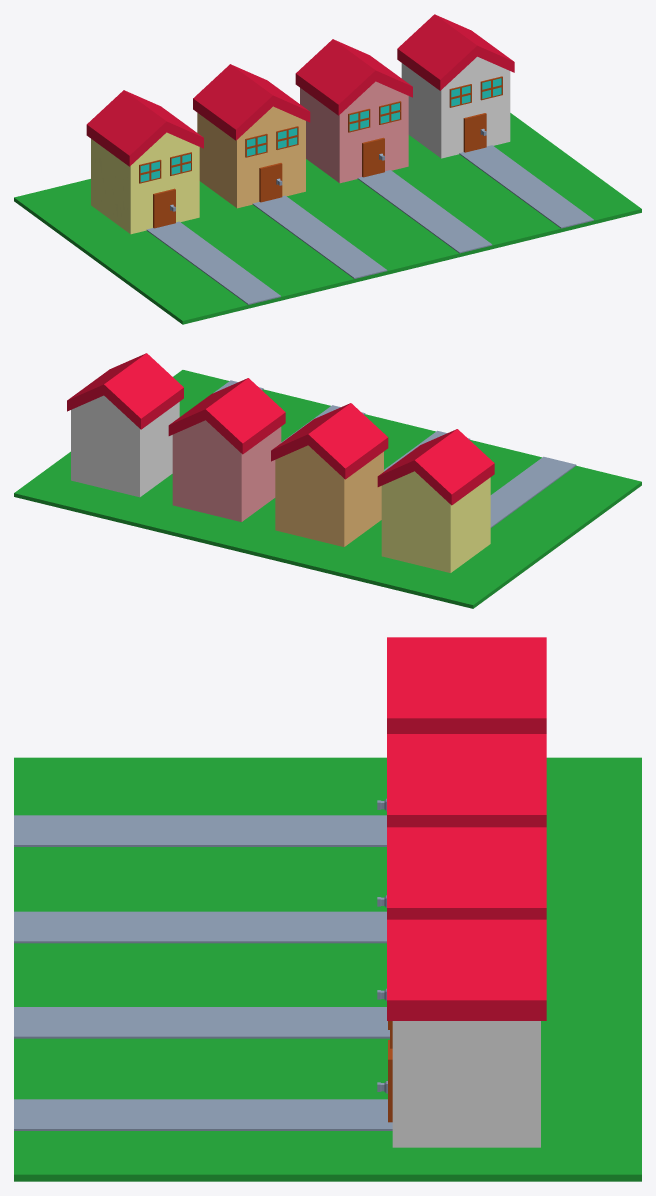
The model's file is houses.glb.
3 renders of one model, top to bottom at view 1: azimuth 30°, elevation 25°; view 2: azimuth 150°, elevation 25°; view 3: azimuth 270°, elevation 25°, orthographic. The views are drawn at different scales.
Parts seen in each view (by area): view 1: Cube; view 2: Cube; view 3: Cube.
Boxes of the visible parts, x1=… form: Cube: x1=14, y1=14, x2=641, y2=324; Cube: x1=14, y1=353, x2=641, y2=608; Cube: x1=14, y1=637, x2=641, y2=1181.
Bounding box in the file's own units: 13.32 × 3.03 × 8.48.
Materials: 1 (1 with a texture image).
